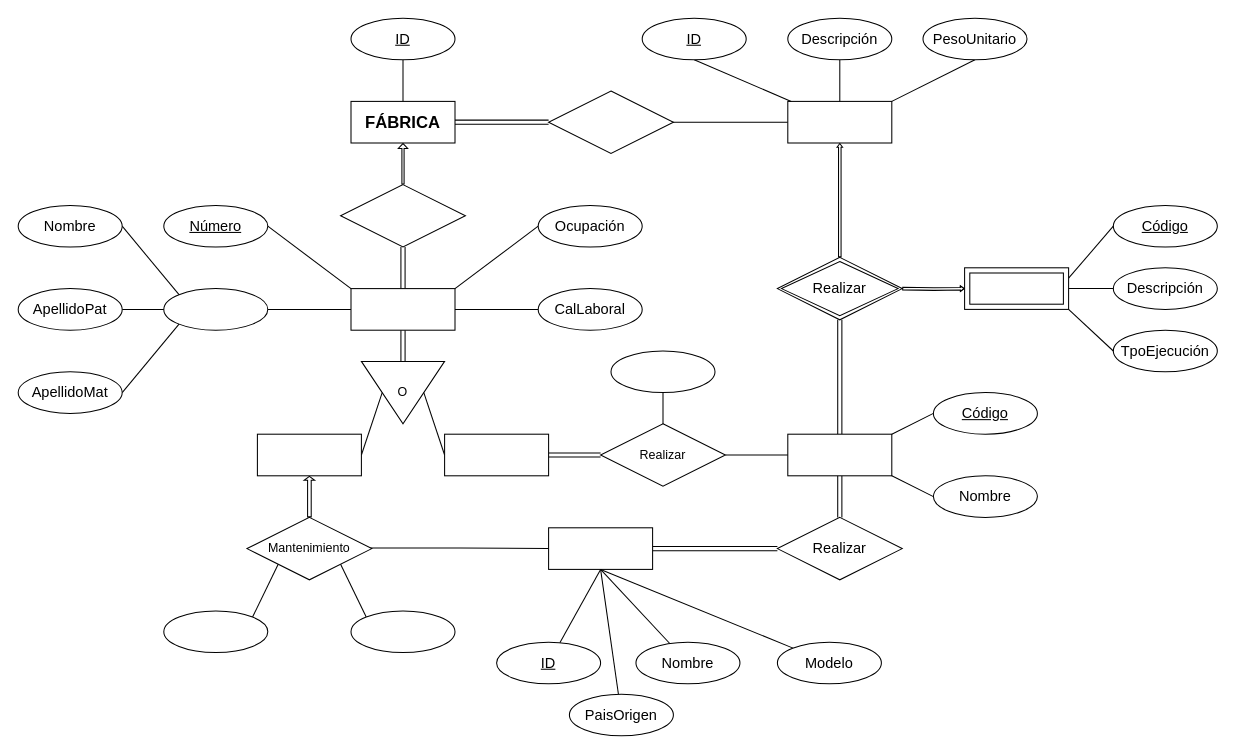
This 1236x754 diagram has some shape labels left out. Each missing label, with the centre of its shape:
"AUXILIAR" belongs at point 308,454.
"DIRECTO" belongs at point 496,454.
"EQUIPO" belongs at point 600,548.
"Fabrica" belongs at point 610,121.
"Fecha" belongs at point 402,631.
"NombreCom" belongs at point 215,309.
"NORMA" belongs at point 1016,288.
"OBRERO" belongs at point 402,309.
"OPERACIÓN" belongs at point 839,454.
"PIEZA" belongs at point 839,121.
"Tipo" belongs at point 215,631.
"TpoOperación" belongs at point 662,371.
"Trabajan" belongs at point 402,215.
